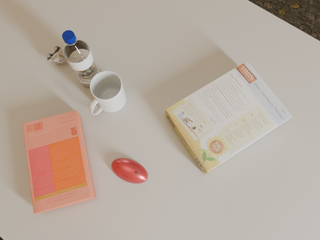book: (23, 110, 96, 214)
bottle: (62, 30, 100, 87)
box: (165, 61, 292, 174)
cup: (89, 71, 126, 115)
mouse: (112, 158, 148, 183)
toy_car: (47, 44, 66, 64)
